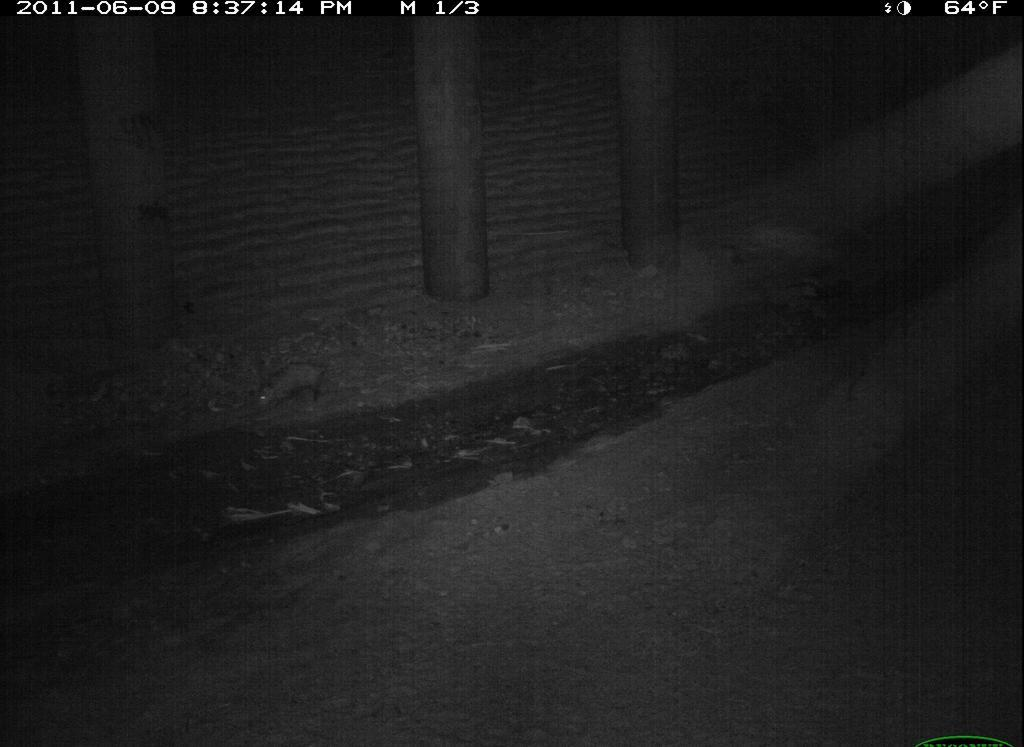opossum: (504, 714, 712, 747)
